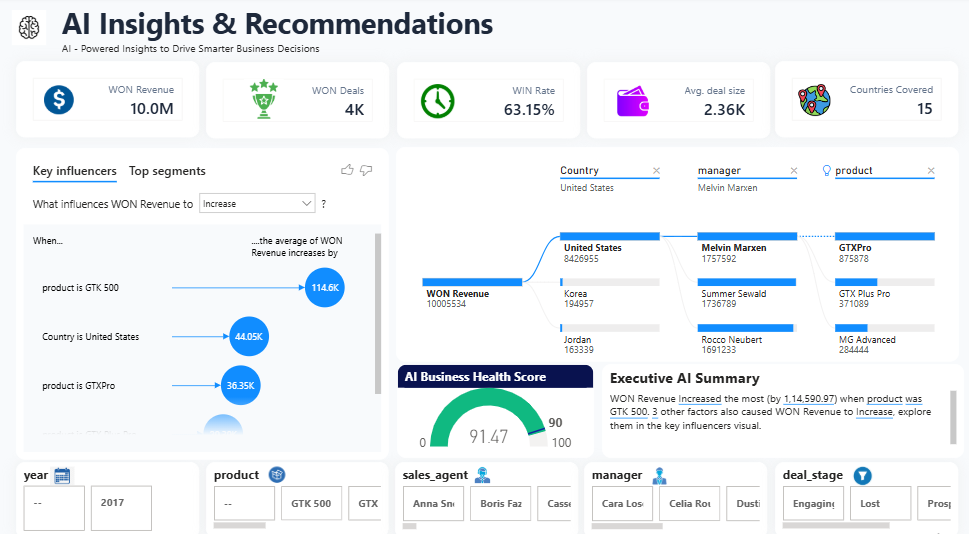

The page's visual inventory and layout, read from the dashboard file:
{"tool":"powerbi","page":{"name":"AI Insights & Recommendations","canvas":[1280,720],"ordinal":4},"visuals":[{"type":"textbox","box":[80.5,4.4,1198.5,93.7],"z":0},{"type":"image","box":[14.4,17,55,45.8],"z":1000},{"type":"cardVisual","fields":{"Data":["Measures (2).WON Revenue"]},"box":[24.5,83.5,240,100],"z":2000},{"type":"cardVisual","fields":{"Data":["Measures (2).WON Deals"]},"box":[273.6,85.1,240,100],"z":3000},{"type":"cardVisual","fields":{"Data":["Measures (2).WIN Rate"]},"box":[523.6,85.1,240,100],"z":4000},{"type":"cardVisual","fields":{"Data":["Measures (2).Avg. deal size"]},"box":[772.4,85.1,240,100],"z":5000},{"type":"cardVisual","fields":{"Data":["Measures (2).Countries Covered"]},"box":[1018.5,83.8,240,100],"z":6000},{"type":"image","box":[61.5,112.1,38.6,44.3],"z":7000},{"type":"image","box":[319.5,107.9,60.4,51.8],"z":8000},{"type":"image","box":[801.6,112.3,63.3,47.5],"z":9000},{"type":"image","box":[1046,113.9,48.4,41.9],"z":10000},{"type":"advancedSlicerVisual","fields":{"Values":["date.year"]},"box":[24.5,609.1,240,100],"z":11000},{"type":"advancedSlicerVisual","fields":{"Values":["Products.product"]},"box":[273.6,609.1,239,99.4],"z":12000},{"type":"advancedSlicerVisual","fields":{"Values":["Sales Pipeline.sales_agent"]},"box":[520.8,608.6,240,100],"z":13000},{"type":"advancedSlicerVisual","fields":{"Values":["Sales Team.manager"]},"box":[768.5,608.6,240,100],"z":14000},{"type":"advancedSlicerVisual","fields":{"Values":["Sales Pipeline.deal_stage"]},"box":[1018.1,609.1,240.5,99.4],"z":15000},{"type":"image","box":[69.1,604.8,31.7,43.2],"z":16000},{"type":"image","box":[348.5,612,37.4,27.4],"z":17000},{"type":"image","box":[617.8,613.4,34.6,24.5],"z":18000},{"type":"image","box":[848.2,613.4,38.9,25.9],"z":19000},{"type":"image","box":[1118.9,613.4,27.4,25.9],"z":20000},{"type":"keyDriversVisual","fields":{"Target":["Measures (2).WON Revenue"],"ExplainBy":["Sales Pipeline.Country","Sales Pipeline.product","Sales Team.sales_agent","Sales Pipeline.deal_stage"]},"box":[24.5,197.3,488.2,407.5],"z":21000},{"type":"gauge","title":"AI Business Health Score","fields":{"Y":["Measures (2).AI Insights Score"],"MinValue":["Measures (2).Gauge Minimum"],"MaxValue":["Measures (2).Gauge Maximum"],"TargetValue":["Measures (2).Gauge Target"]},"box":[523.6,480.4,257.9,123.1],"z":22000},{"type":"image","box":[545.9,113.9,61.5,44.5],"z":23000},{"type":"textbox","title":"Executive AI Summary","box":[792,480.4,473.9,123.1],"z":24000},{"type":"decompositionTreeVisual","fields":{"Analyze":["Measures (2).WON Revenue"],"ExplainBy":["Sales Pipeline.Country","Sales Team.manager","Sales Pipeline.product"]},"box":[522.3,196.4,737,281.5],"z":25000}]}

Visuals, with their boxes in screenshot pixels (x1, y1, x2, y2), scaled from the page's 1280x720 canvas onto the 969x534 screenshot:
textbox: BBox(61, 3, 968, 73)
image: BBox(11, 13, 53, 47)
cardVisual - Measures (2).WON Revenue: BBox(19, 62, 200, 136)
cardVisual - Measures (2).WON Deals: BBox(207, 63, 389, 137)
cardVisual - Measures (2).WIN Rate: BBox(396, 63, 578, 137)
cardVisual - Measures (2).Avg. deal size: BBox(585, 63, 766, 137)
cardVisual - Measures (2).Countries Covered: BBox(771, 62, 953, 136)
image: BBox(47, 83, 76, 116)
image: BBox(242, 80, 288, 118)
image: BBox(607, 83, 655, 119)
image: BBox(792, 84, 828, 116)
advancedSlicerVisual - date.year: BBox(19, 452, 200, 526)
advancedSlicerVisual - Products.product: BBox(207, 452, 388, 525)
advancedSlicerVisual - Sales Pipeline.sales_agent: BBox(394, 451, 576, 526)
advancedSlicerVisual - Sales Team.manager: BBox(582, 451, 763, 526)
advancedSlicerVisual - Sales Pipeline.deal_stage: BBox(771, 452, 953, 525)
image: BBox(52, 449, 76, 481)
image: BBox(264, 454, 292, 474)
image: BBox(468, 455, 494, 473)
image: BBox(642, 455, 672, 474)
image: BBox(847, 455, 868, 474)
keyDriversVisual - Measures (2).WON Revenue x Sales Pipeline.Country: BBox(19, 146, 388, 449)
"AI Business Health Score" gauge: BBox(396, 356, 592, 448)
image: BBox(413, 84, 460, 117)
"Executive AI Summary" textbox: BBox(600, 356, 958, 448)
decompositionTreeVisual - Measures (2).WON Revenue x Sales Pipeline.Country: BBox(395, 146, 953, 354)
